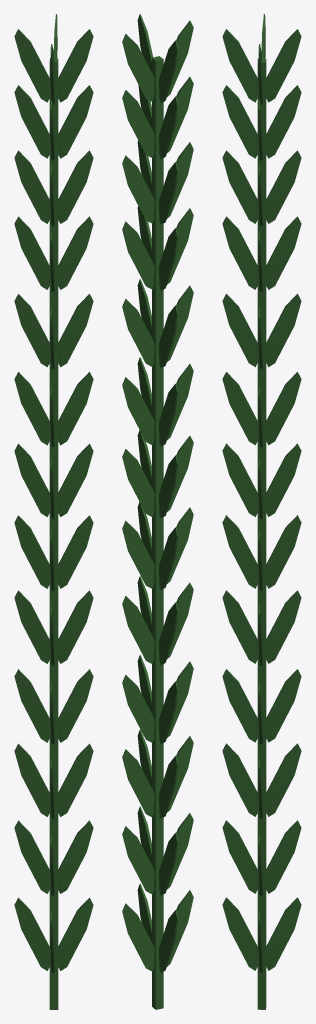
File: SM_KelpPlaceHolder3_M.fbx
3 views of the same model, side by side, from view 1: azimuth 90°, elevation 25°; view 2: azimuth 210°, elevation 25°; view 3: azimuth 270°, elevation 25° (orthographic).
Parts seen in each view (by area): view 1: pCube38; view 2: pCube38; view 3: pCube38.
Part boxes in pixels (left/top/right/bottom): pCube38: left=14, top=14, right=93, bottom=1009; pCube38: left=122, top=14, right=193, bottom=1009; pCube38: left=222, top=14, right=301, bottom=1009.
Bounding box in the file's own units: 60.1 × 823 × 60.2.
